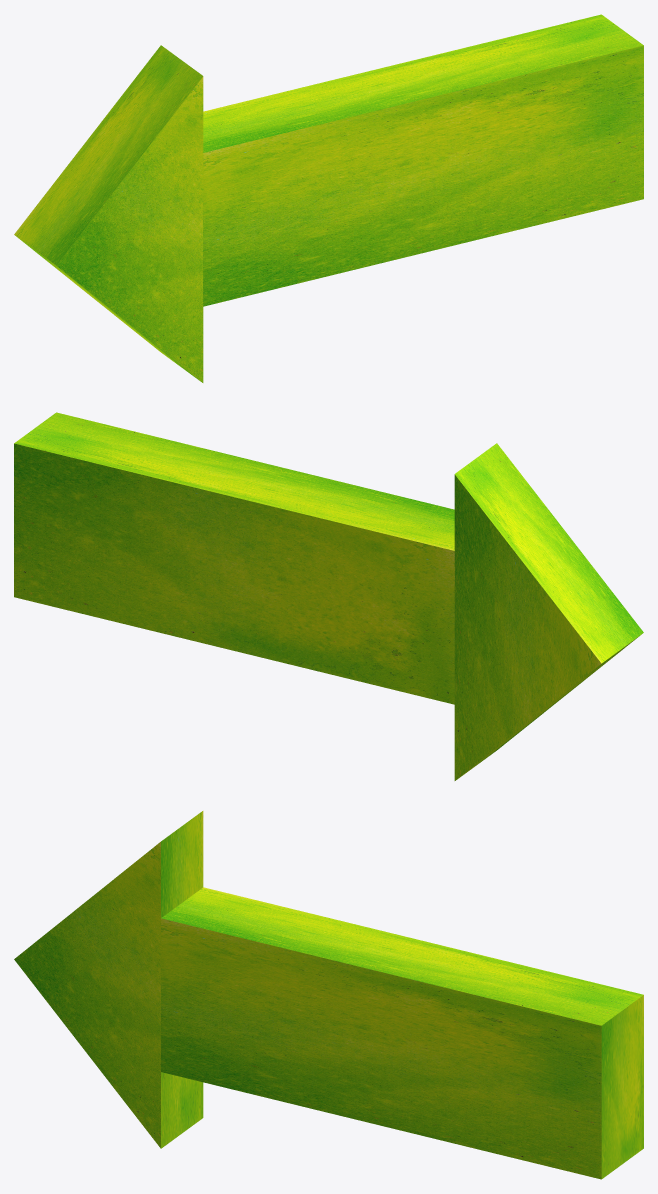
File: bonus.obj
3 renders of one model, top to bottom at view 1: azimuth 30°, elevation 25°; view 2: azimuth 150°, elevation 25°; view 3: azimuth 330°, elevation 25°, orthographic.
Visible parts, largest first — view 1: Cube; view 2: Cube; view 3: Cube.
Boxes of the visible parts, x1=… form: Cube: x1=14, y1=14, x2=643, y2=382; Cube: x1=14, y1=412, x2=643, y2=780; Cube: x1=14, y1=811, x2=643, y2=1179.
Size of the model in its own units: 16 by 8 by 2.
1 material, 1 textured.
